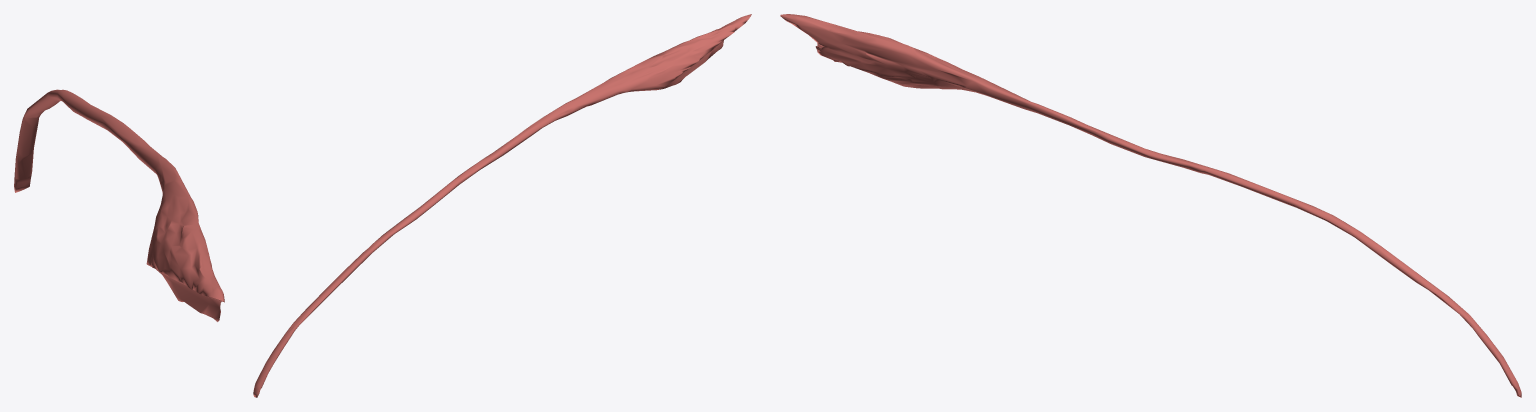
The picture shows the model from 3 angles, left to right: view 1: azimuth 30°, elevation 25°; view 2: azimuth 150°, elevation 25°; view 3: azimuth 270°, elevation 25°; orthographic projection. The views are drawn at different scales.
Parts seen in each view (by area): view 1: 左侧示指伸肌; view 2: 左侧示指伸肌; view 3: 左侧示指伸肌.
Part boxes in pixels (box(x1,y1,x2,y2)): 左侧示指伸肌: box(14, 89, 224, 321); 左侧示指伸肌: box(253, 14, 751, 397); 左侧示指伸肌: box(780, 14, 1521, 397).
Size of the model in its own units: 0.1189 by 0.1195 by 0.3036.
